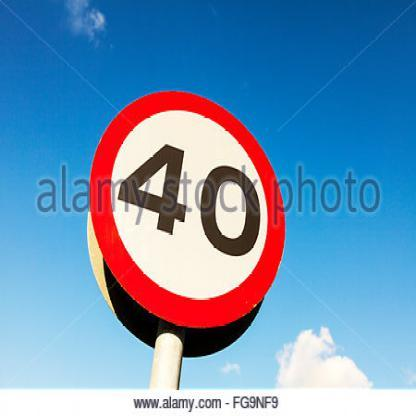Speed Limit 40: (92, 91, 285, 326)
